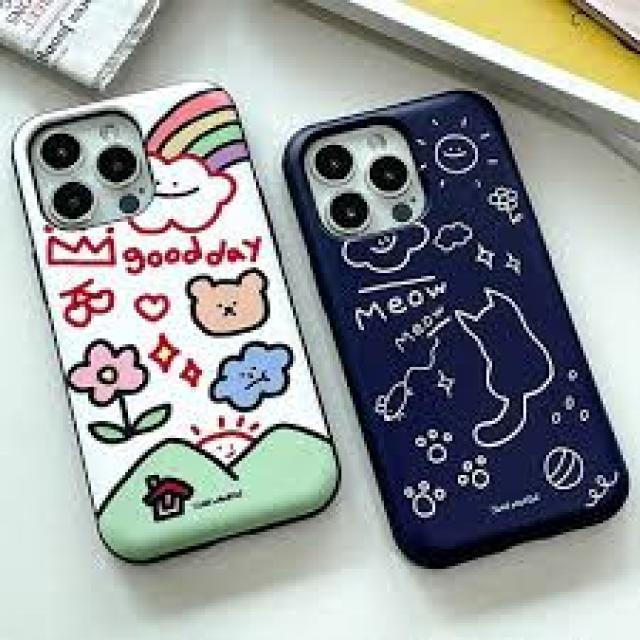Phone: (276, 87, 640, 572), (6, 76, 346, 570)
